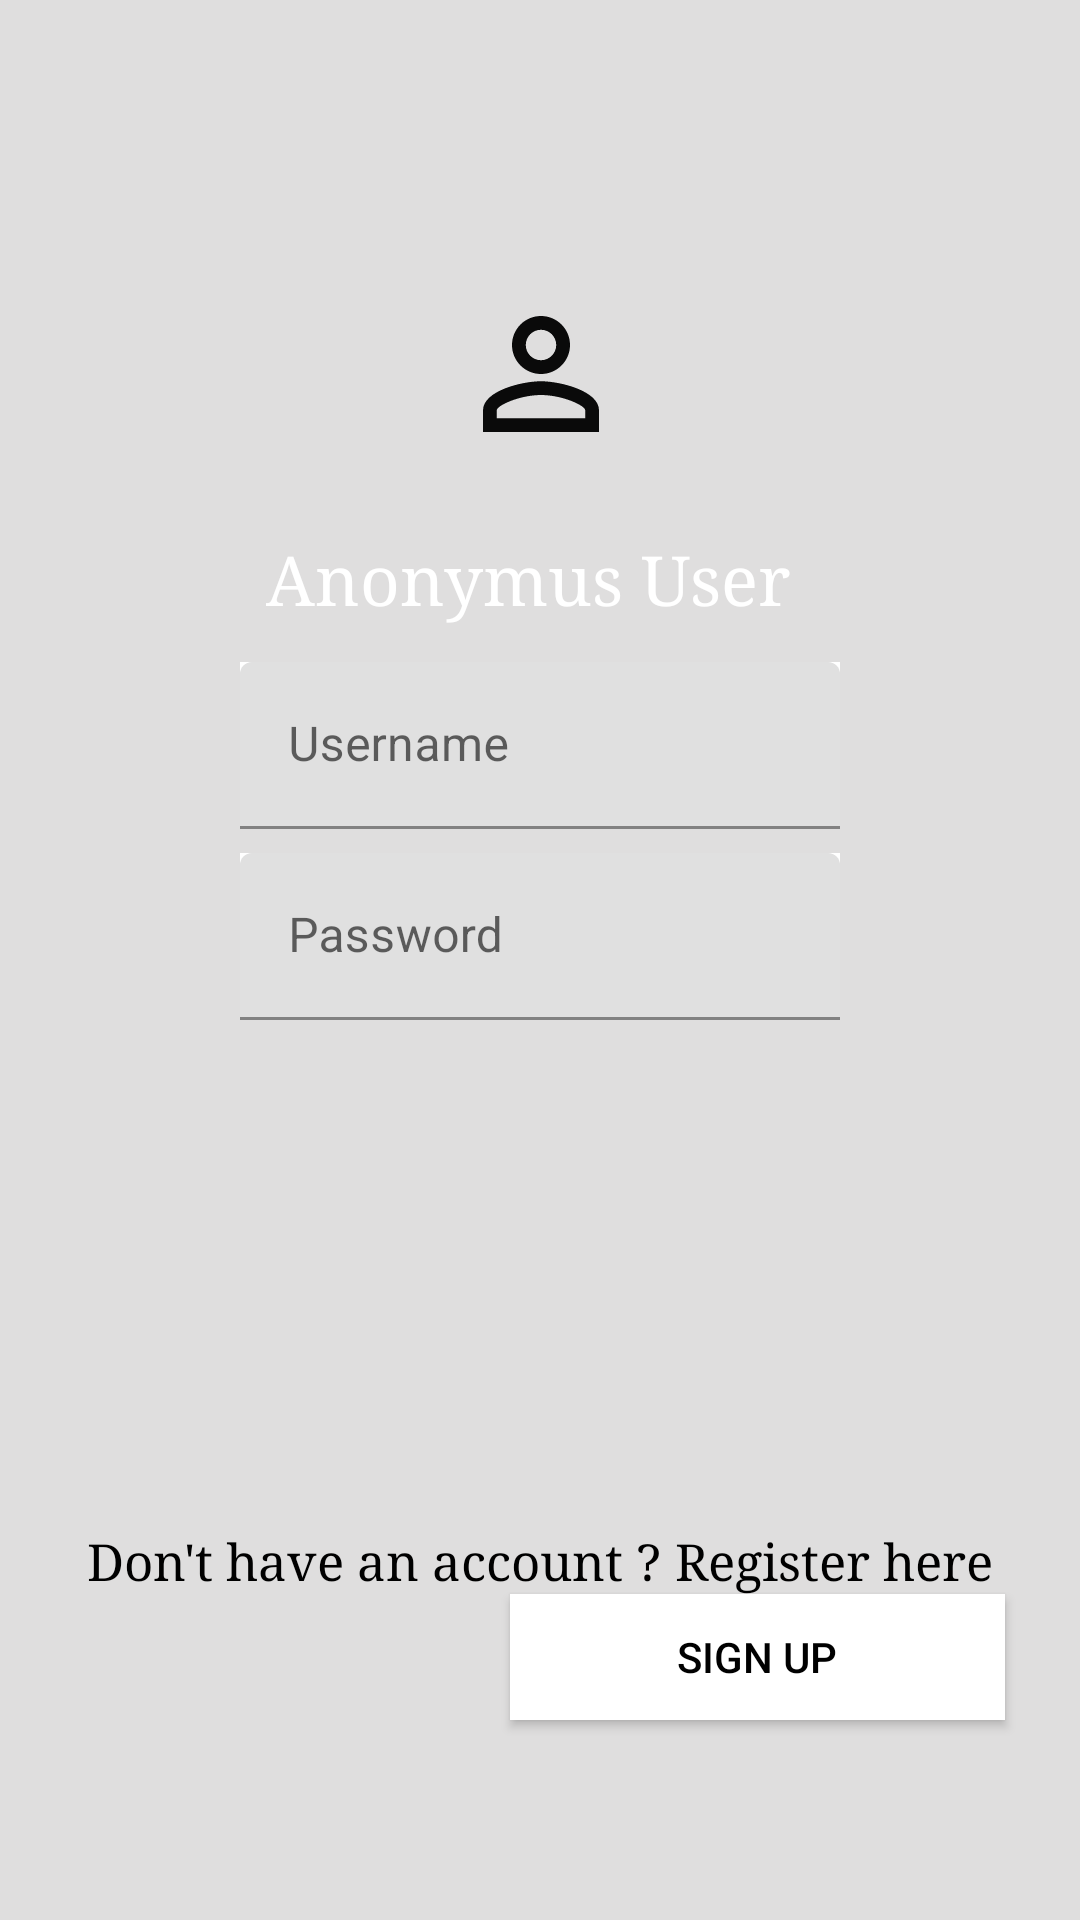

Screen size 1080px x 1920px. Icon name, then its box in pixels as (x1, y1, x2, y2):
person: (483, 316, 599, 432)
